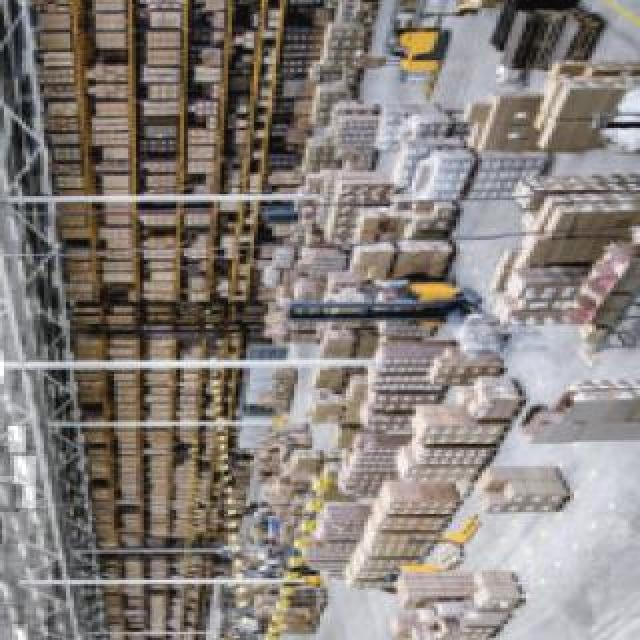fluorescent tube: (0, 518, 10, 548)
